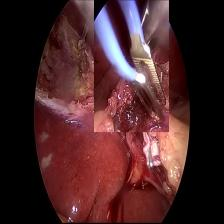Bipolar: (94, 0, 169, 132)
